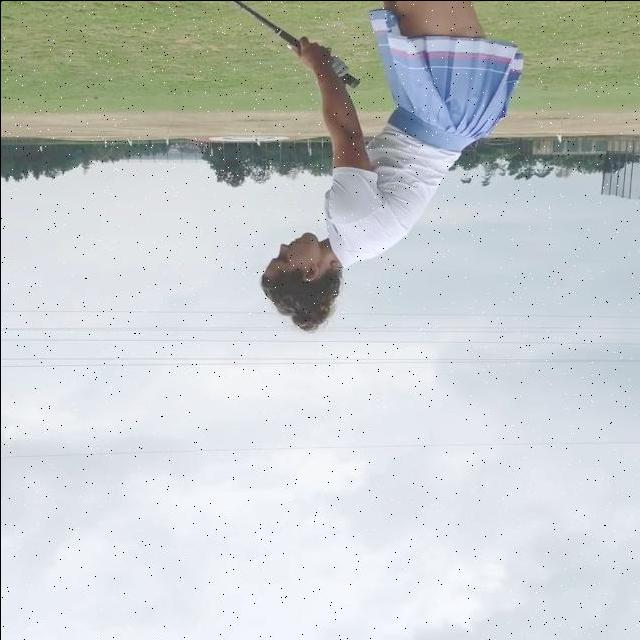golf club-handle: (232, 0, 360, 87)
